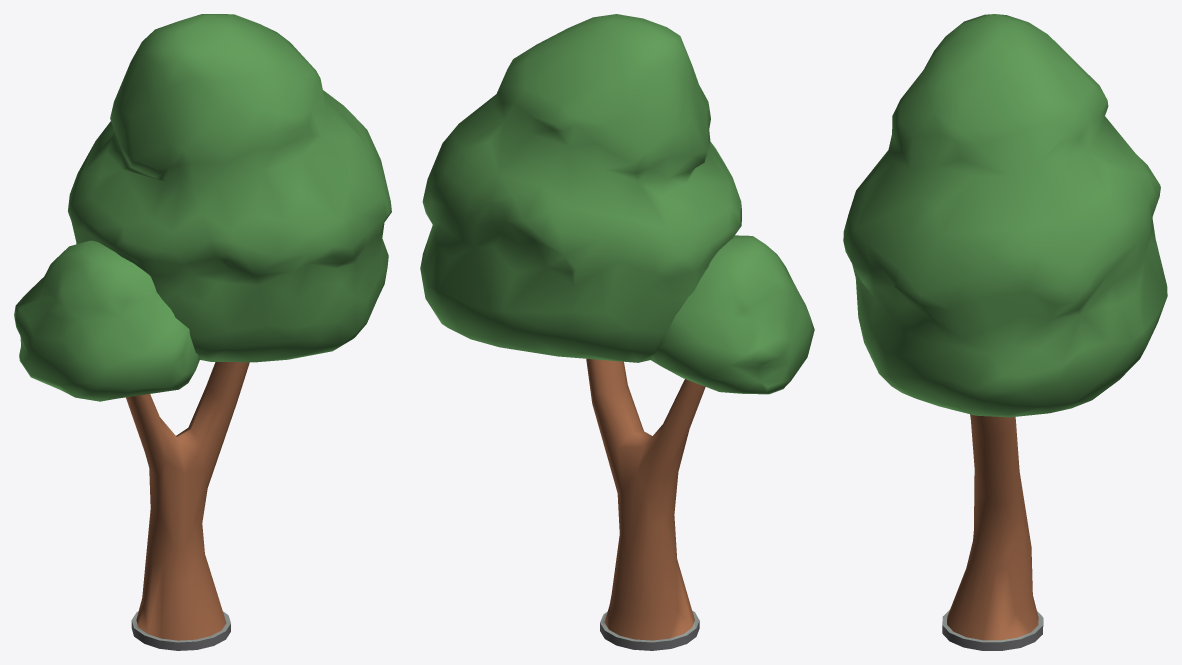
File: Tree_1.fbx
3 renders of one model, left to right at view 1: azimuth 30°, elevation 25°; view 2: azimuth 150°, elevation 25°; view 3: azimuth 270°, elevation 25°, orthographic. The views are drawn at different scales.
Parts seen in each view (by area): view 1: Tree1; view 2: Tree1; view 3: Tree1.
Boxes of the visible parts, x1,y1,x2,y2 form: Tree1: (14, 14, 391, 650); Tree1: (420, 14, 814, 650); Tree1: (843, 14, 1167, 650).
Bounding box in the file's own units: 385 × 635 × 302.
